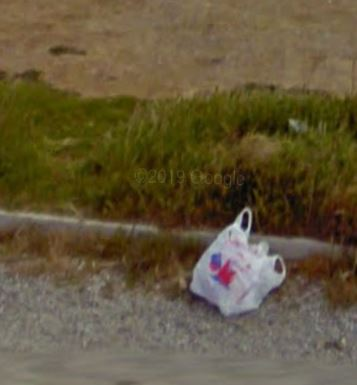trash: (176, 198, 295, 321)
